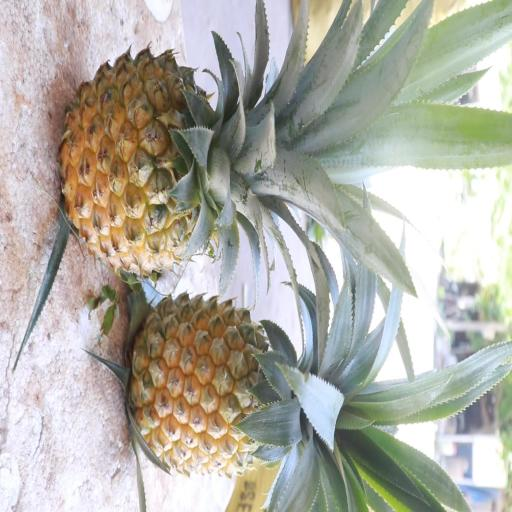Pineapple - v8 v1: (54, 30, 305, 276), (126, 285, 365, 487)
